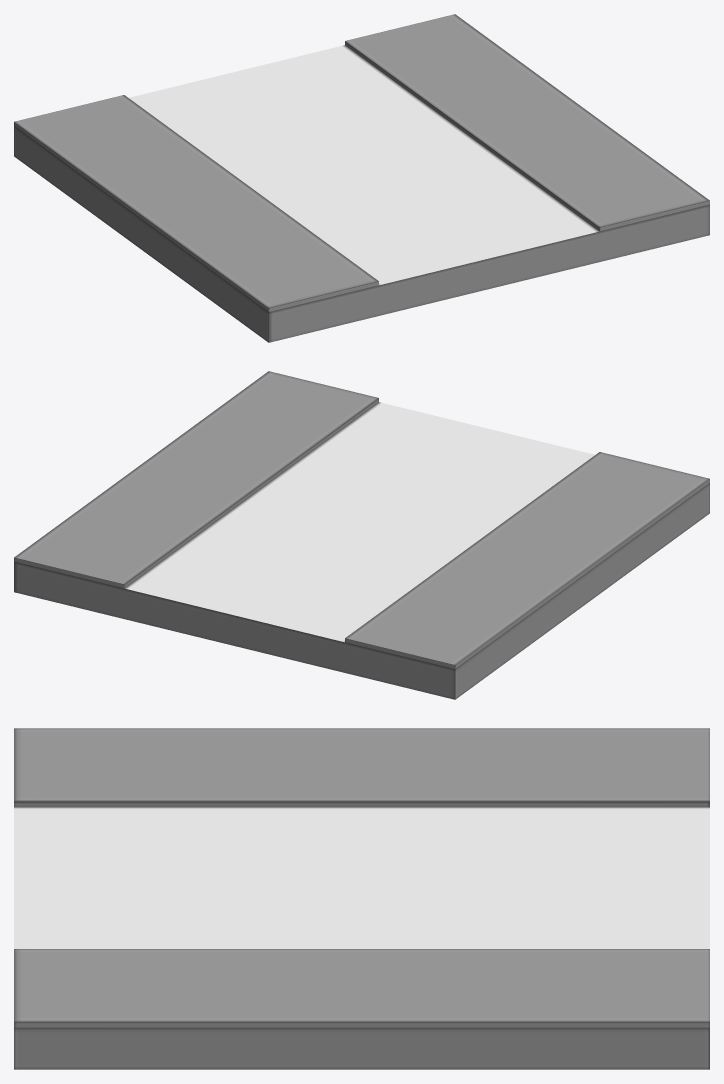
The model's file is Road-04.fbx.
3 renders of one model, top to bottom at view 1: azimuth 30°, elevation 25°; view 2: azimuth 150°, elevation 25°; view 3: azimuth 270°, elevation 25°, orthographic. The views are drawn at different scales.
Visible parts, largest first — view 1: Road_04; view 2: Road_04; view 3: Road_04.
Part boxes in pixels (x1,y1,x2,y2): Road_04: (14,14,709,342); Road_04: (14,371,709,699); Road_04: (14,728,709,1069).
Size of the model in its own units: 4 by 0.3 by 4.
